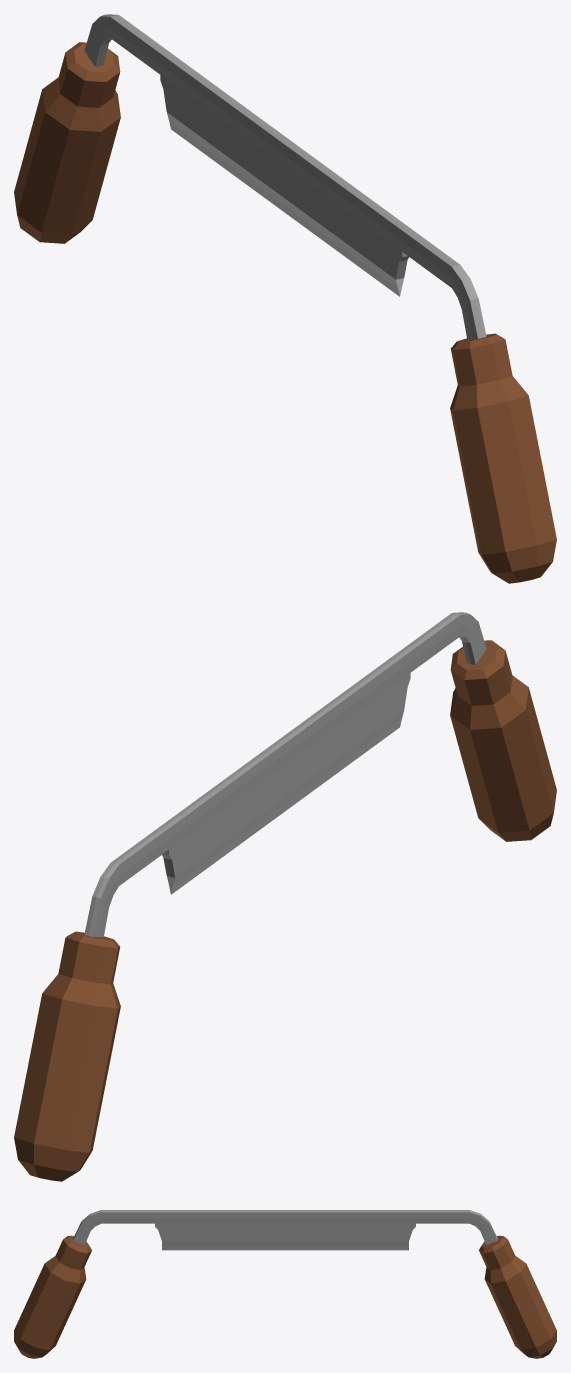
The model's file is drawknife01.gltf.
3 views of the same model, one above another, from view 1: azimuth 30°, elevation 25°; view 2: azimuth 150°, elevation 25°; view 3: azimuth 270°, elevation 25° (orthographic). The views are drawn at different scales.
Parts seen in each view (by area): view 1: Cylinder.002; view 2: Cylinder.002; view 3: Cylinder.002.
Part boxes in pixels (<box>): Cylinder.002: <box>14,14,556,583</box>; Cylinder.002: <box>14,612,556,1181</box>; Cylinder.002: <box>14,1210,556,1358</box>.
Size of the model in its own units: 0.0315 by 0.1124 by 0.3783.
1 material, 1 textured.
